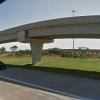Bridge: (4, 15, 99, 54)
